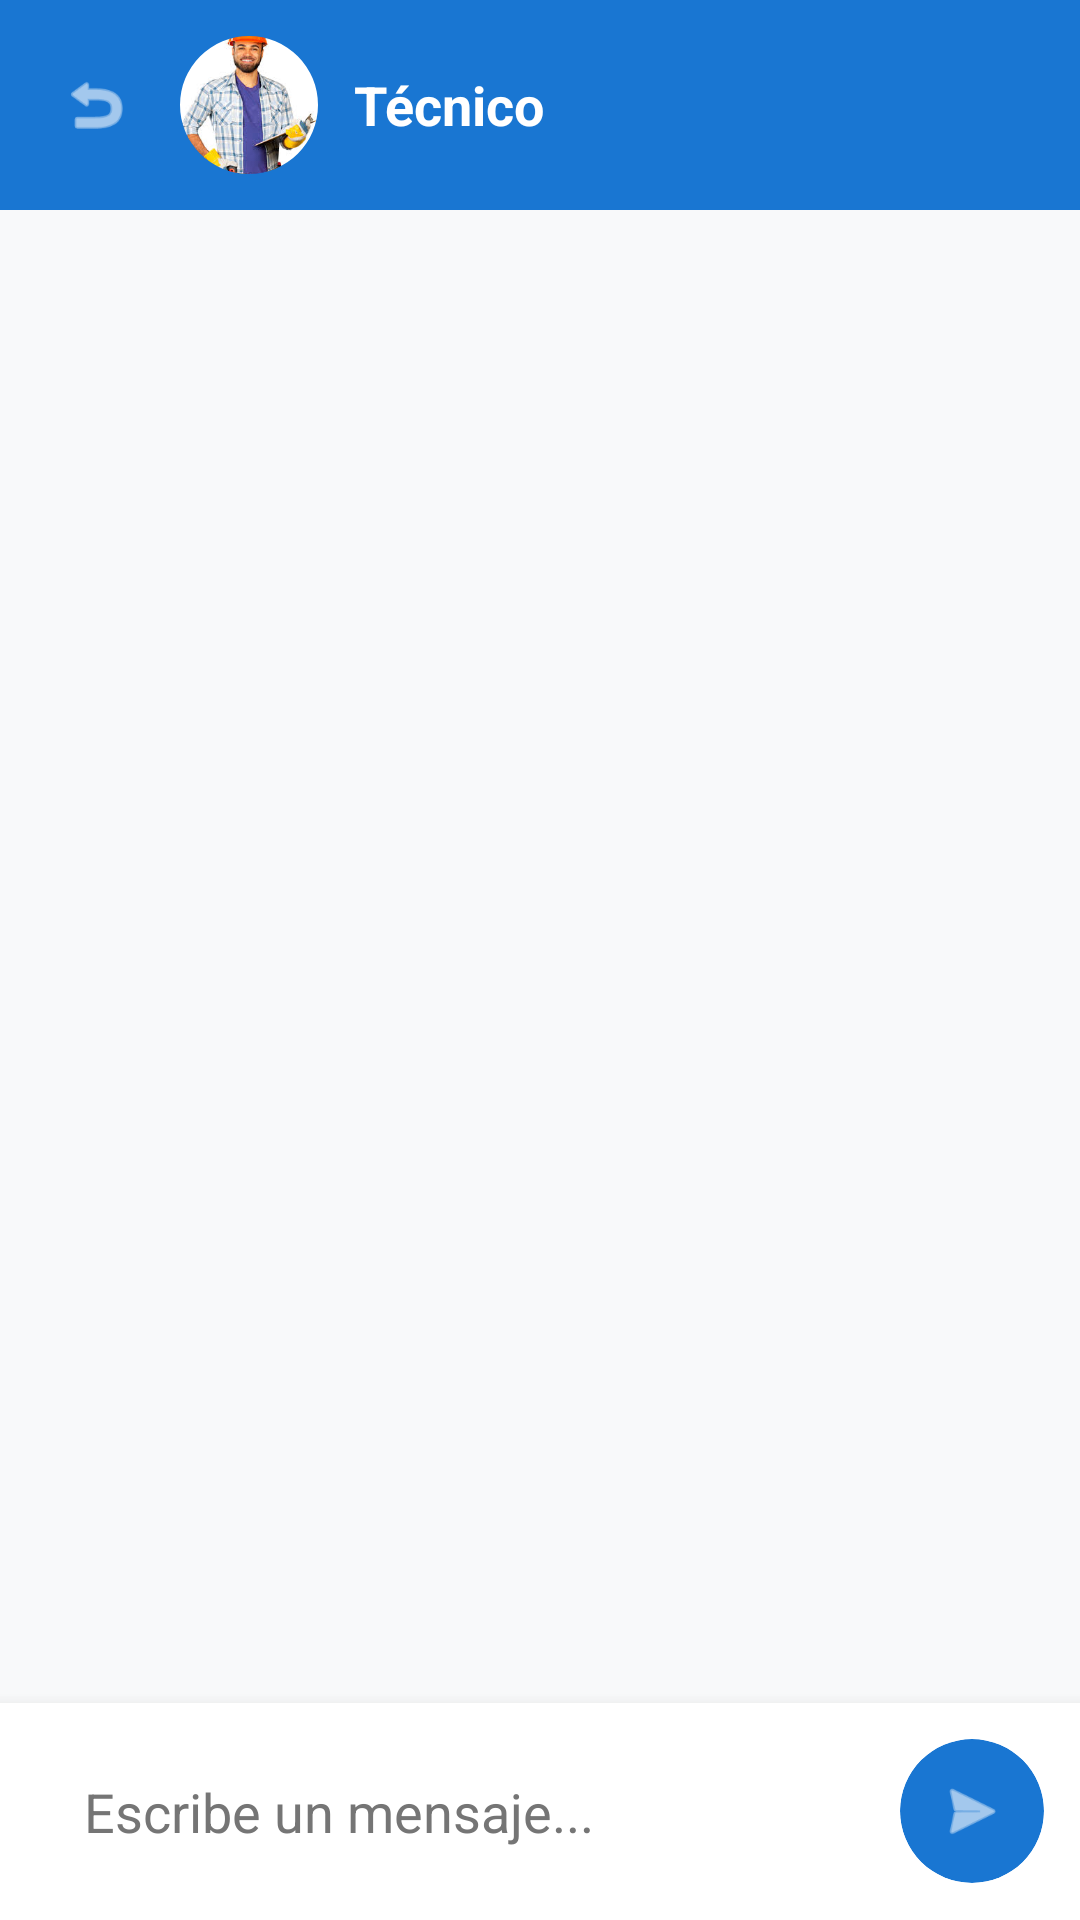

Point at icon controls on the screen. Image size 1080px×1920px, points as (x=x, y=y).
electricista: (x=249, y=105)
revert: (x=97, y=105)
send: (x=972, y=1811)
